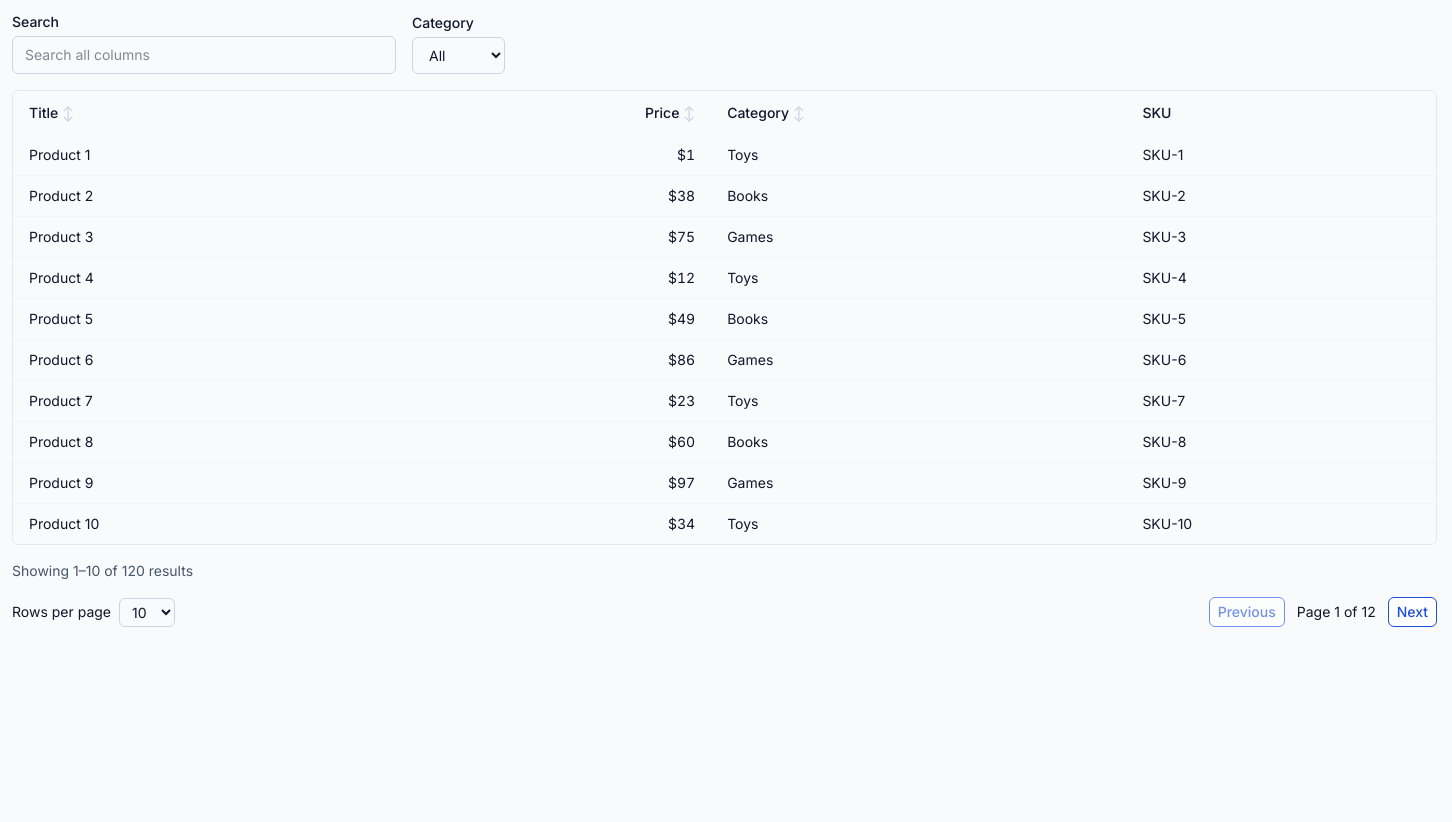
Test: DataTable › narrows rows with a column filter and returns to page 1
Step 1. Click the button "Next" → (1412, 612), box x1=1388 y1=597 x2=1437 y2=627
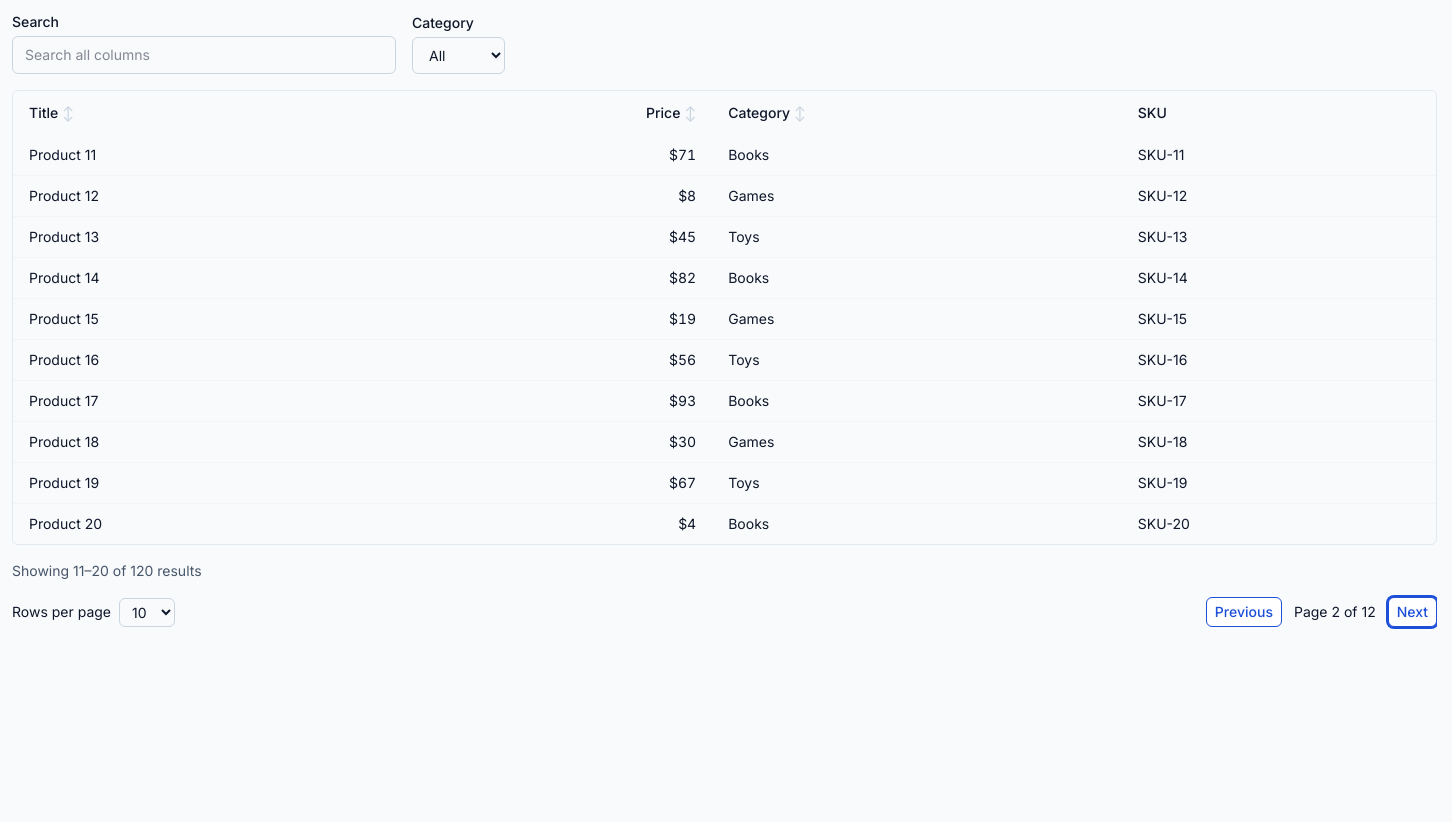
Result: the text "Page 2 of 12" is shown at x1=1294 y1=602 x2=1376 y2=622
Step 2. Select "Books" in the dropdown named "Filter by Category" → (458, 56), box x1=412 y1=37 x2=505 y2=74
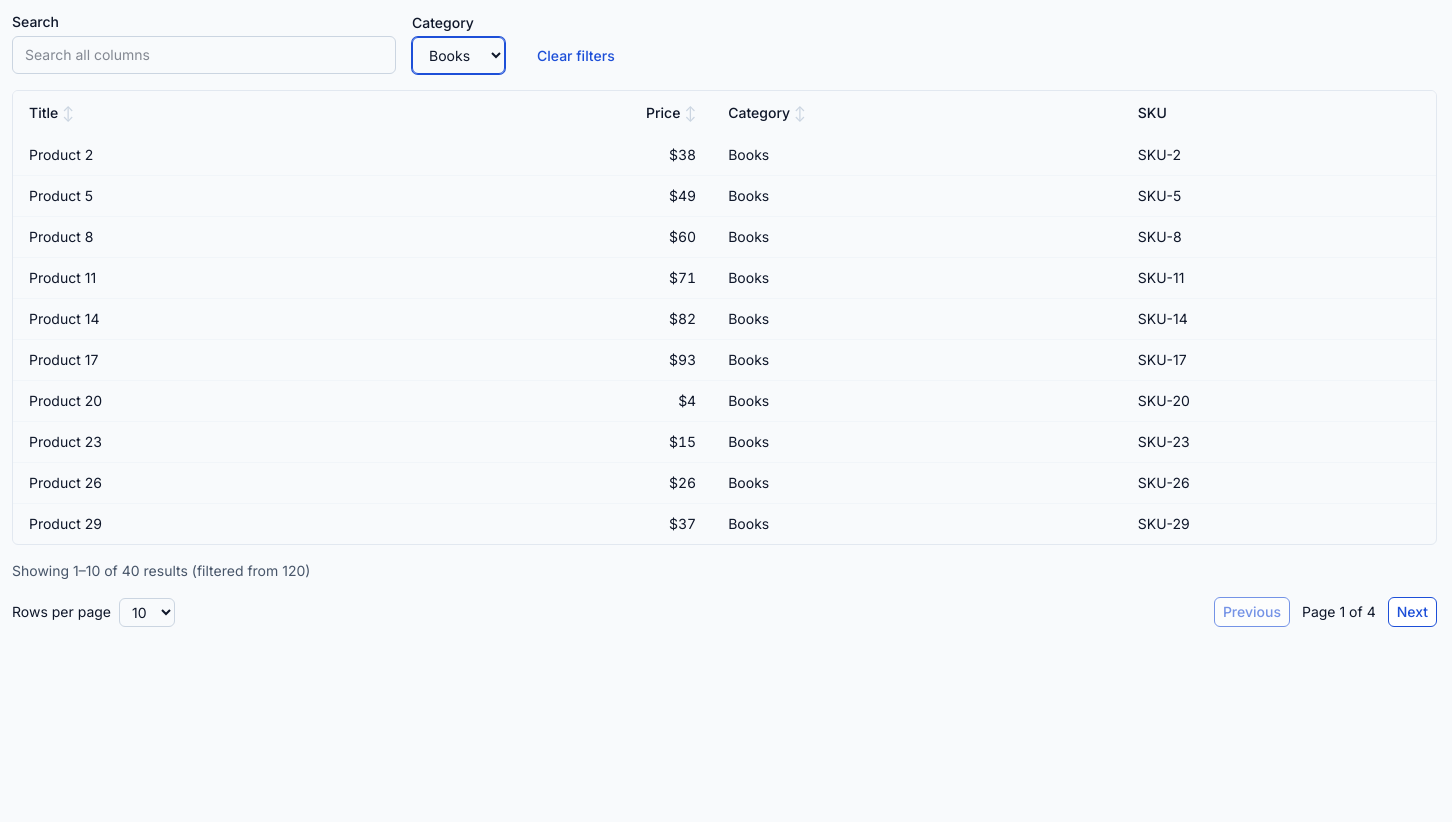
Result: the text "Page 1 of 4" is shown at x1=1302 y1=602 x2=1376 y2=622
Result: the text "Showing 1–10 of 40 results (filtered from 120)" is shown at x1=12 y1=562 x2=310 y2=579
